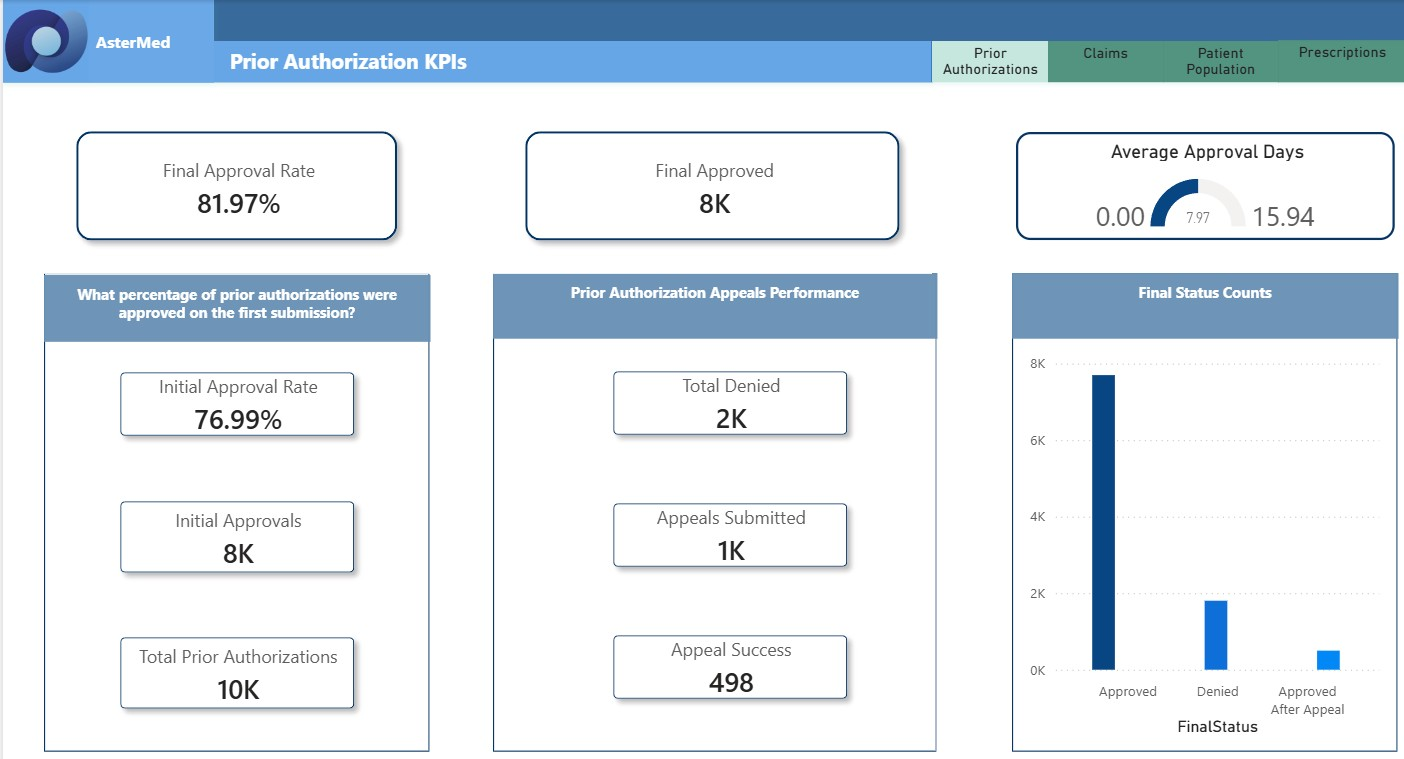

The page's visual inventory and layout, read from the dashboard file:
{"tool":"powerbi","page":{"name":"Prior Authroizations","canvas":[1280,720],"ordinal":0},"visuals":[{"type":"group","id":"g1","title":"Header Background","box":[0,0,1280,73.8],"z":0},{"type":"shape","title":"Horizontal Shape","box":[189.1,36.4,645.5,37],"z":0,"group":"g1"},{"type":"shape","title":"Horizontal Shape","box":[834.2,37,445.8,35.8],"z":1000,"group":"g1"},{"type":"shape","box":[37.2,245.1,346.1,429.8],"z":1000},{"type":"shape","title":"Horizontal Shape","box":[189.2,0.2,1090.4,36.9],"z":2000,"group":"g1"},{"type":"shape","box":[440.2,245.1,398.4,429.8],"z":2000},{"type":"shape","title":"Horizontal Shape","box":[0,0,189.2,73.8],"z":3000,"group":"g1"},{"type":"shape","box":[906,245.1,346.1,429.8],"z":3000},{"type":"cardVisual","fields":{"Data":["prior_authorizations.Initial Approval Rate"]},"box":[76,305.4,268,115.4],"z":4000},{"type":"cardVisual","fields":{"Data":["prior_authorizations.Initial Approvals"]},"box":[76,420.8,268,122.2],"z":5000},{"type":"cardVisual","title":"Total Prior Authorizations","fields":{"Data":["prior_authorizations.Total Prior Authorizations"]},"box":[76.3,543.1,268.4,122.1],"z":6000},{"type":"textbox","box":[36.8,247,346.5,60.1],"z":7000},{"type":"cardVisual","fields":{"Data":["prior_authorizations.Denied"]},"box":[518.5,304.1,268,115.4],"z":8000},{"type":"cardVisual","fields":{"Data":["prior_authorizations.Appeal Success"]},"box":[518.5,541.6,268,115],"z":9000},{"type":"cardVisual","fields":{"Data":["prior_authorizations.Appeals Submitted"]},"box":[519.1,423,268,115],"z":10000},{"type":"textbox","box":[439.9,245.1,398.6,59.3],"z":11000},{"type":"lineClusteredColumnComboChart","title":"Count of Final Status","fields":{"Category":["prior_authorizations.FinalStatus"],"Series":["prior_authorizations.FinalStatus"],"Y":["CountNonNull(prior_authorizations.PAStatus)"]},"box":[916.6,312.4,324.1,352.8],"z":12000},{"type":"cardVisual","fields":{"Data":["prior_authorizations.Final Approved"]},"box":[440.1,88.7,394,156.7],"z":13000},{"type":"cardVisual","fields":{"Data":["prior_authorizations.Final Approval Rate"]},"box":[36.9,88.7,346.8,156.7],"z":14000},{"type":"actionButton","title":"Company Name","box":[77.2,0,111.8,73.7],"z":15000},{"type":"image","title":"Company Logo","box":[0,0,78.3,73.7],"z":16000},{"type":"textbox","title":"Report Title","box":[188.9,36.9,645.2,36.9],"z":17000},{"type":"textbox","box":[905.8,245.1,346.5,59.3],"z":18000},{"type":"gauge","fields":{"Y":["prior_authorizations.Average Approval Days"]},"box":[909,118.7,339.9,96.8],"z":19000},{"type":"actionButton","title":"Prior Authorizations","box":[834.1,36.9,104.8,36.9],"z":20000},{"type":"actionButton","title":"Claims","box":[937.8,36.9,103.7,36.9],"z":21000},{"type":"actionButton","title":"Patient Population","box":[1041.5,36.9,103.7,36.9],"z":22000},{"type":"actionButton","title":"Prescriptions","box":[1144.9,36.3,115.9,38.3],"z":23000},{"type":"textbox","box":[1259.8,36.3,20.2,38.3],"z":24000}]}

Visuals, with their boxes on the page's 1280x720 design canvas (x1, y1, x2, y2). These are canvas units, not pixel positions in the 1404x759 screenshot, which may show the page scaled, cropped or inside an application window:
"Header Background" group: [0, 0, 1280, 74]
"Horizontal Shape" shape: [189, 36, 835, 73]
"Horizontal Shape" shape: [834, 37, 1280, 73]
shape: [37, 245, 383, 675]
"Horizontal Shape" shape: [189, 0, 1280, 37]
shape: [440, 245, 839, 675]
"Horizontal Shape" shape: [0, 0, 189, 74]
shape: [906, 245, 1252, 675]
cardVisual - prior_authorizations.Initial Approval Rate: [76, 305, 344, 421]
cardVisual - prior_authorizations.Initial Approvals: [76, 421, 344, 543]
"Total Prior Authorizations" cardVisual: [76, 543, 345, 665]
textbox: [37, 247, 383, 307]
cardVisual - prior_authorizations.Denied: [518, 304, 786, 420]
cardVisual - prior_authorizations.Appeal Success: [518, 542, 786, 657]
cardVisual - prior_authorizations.Appeals Submitted: [519, 423, 787, 538]
textbox: [440, 245, 838, 304]
"Count of Final Status" lineClusteredColumnComboChart: [917, 312, 1241, 665]
cardVisual - prior_authorizations.Final Approved: [440, 89, 834, 245]
cardVisual - prior_authorizations.Final Approval Rate: [37, 89, 384, 245]
"Company Name" actionButton: [77, 0, 189, 74]
"Company Logo" image: [0, 0, 78, 74]
"Report Title" textbox: [189, 37, 834, 74]
textbox: [906, 245, 1252, 304]
gauge - prior_authorizations.Average Approval Days: [909, 119, 1249, 216]
"Prior Authorizations" actionButton: [834, 37, 939, 74]
"Claims" actionButton: [938, 37, 1042, 74]
"Patient Population" actionButton: [1042, 37, 1145, 74]
"Prescriptions" actionButton: [1145, 36, 1261, 75]
textbox: [1260, 36, 1280, 75]
